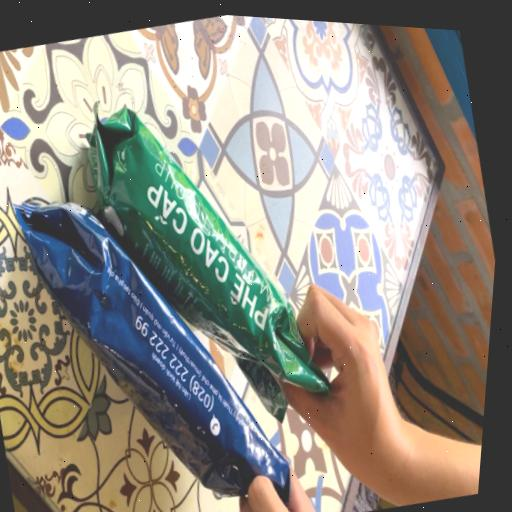cafe_hat: (14, 201, 290, 503)
cafe_xay: (88, 108, 327, 417)
